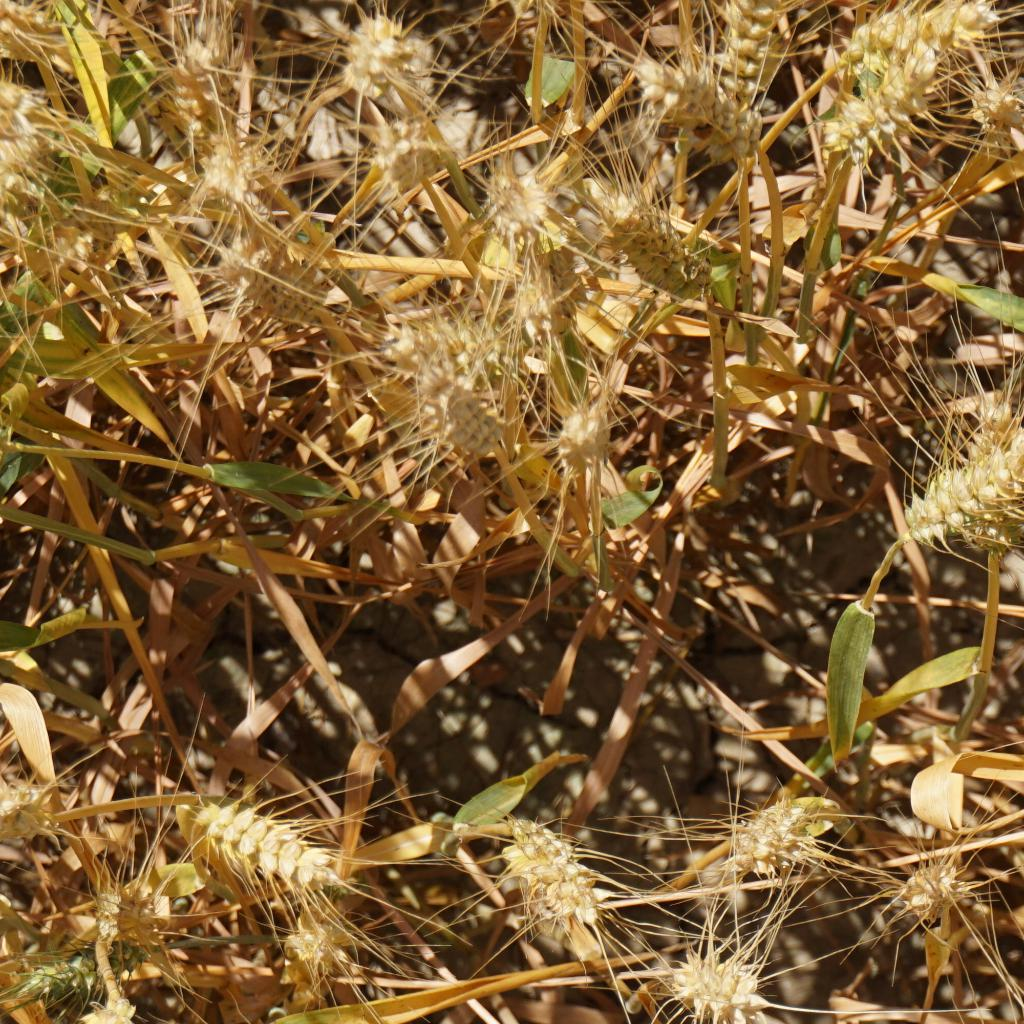0-0: (193, 793, 341, 899), (490, 813, 608, 931), (894, 431, 1020, 523), (816, 0, 996, 64), (951, 371, 1012, 554), (211, 221, 328, 308), (627, 44, 726, 144), (840, 55, 941, 153), (601, 186, 694, 285), (367, 301, 489, 375), (659, 951, 773, 1024), (693, 0, 776, 100), (86, 876, 179, 963), (429, 371, 506, 459), (888, 846, 982, 918), (278, 918, 366, 994), (341, 16, 422, 98), (725, 790, 812, 863), (547, 399, 617, 483), (477, 157, 551, 233), (183, 139, 270, 200), (365, 126, 451, 184), (18, 951, 99, 1009), (0, 80, 52, 166), (964, 72, 1024, 140), (507, 278, 563, 344), (167, 29, 210, 113), (0, 0, 58, 62), (0, 159, 35, 240), (981, 975, 1024, 1024), (45, 1004, 147, 1024), (0, 771, 28, 837)
